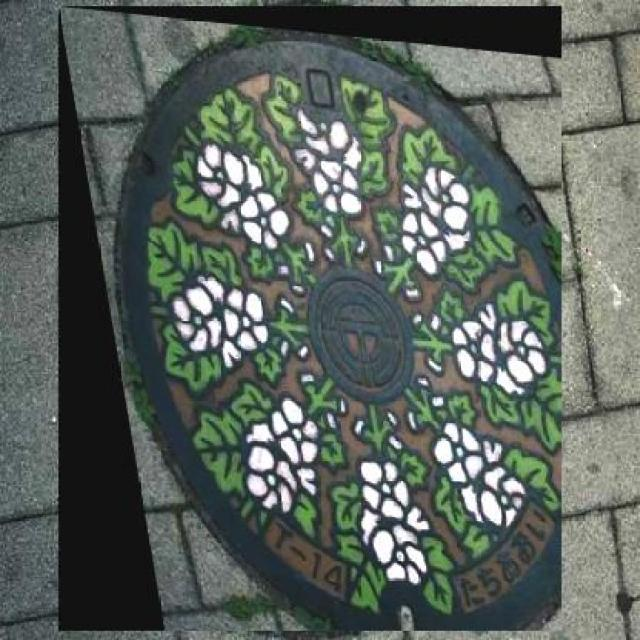Manhole: (59, 6, 562, 631)
